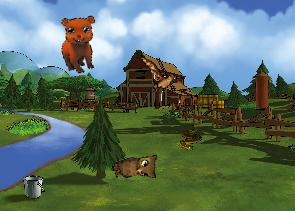bear: (53, 10, 108, 77)
eagle: (133, 54, 186, 98)
owl: (110, 149, 163, 190)
